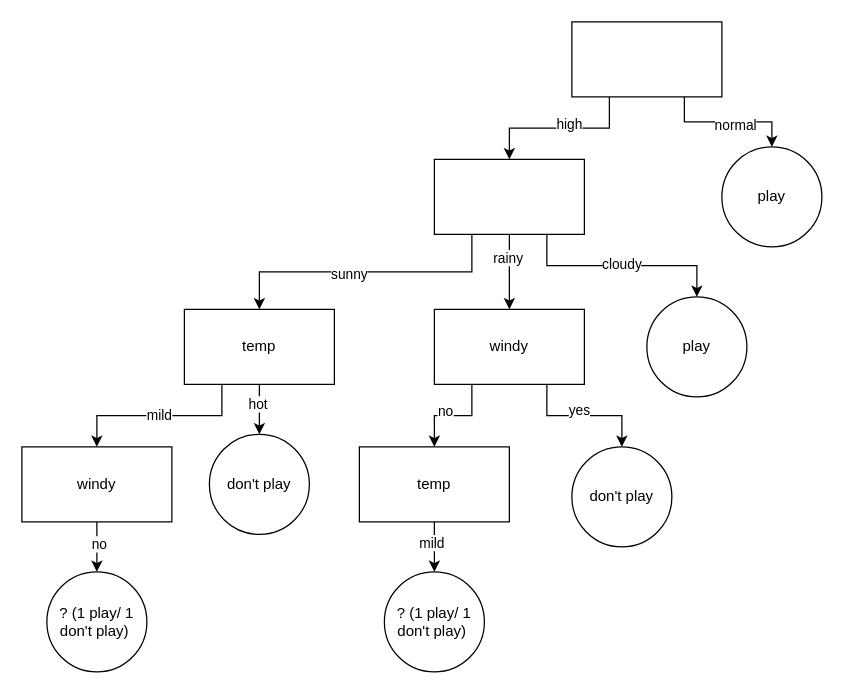
This 844x694 diagram has some shape labels left out. The shapes that lost their labels are listed below. From the top down, each one's centre as x and y in pixels, then its label:
point 646,59: humidty
point 508,196: outlook
